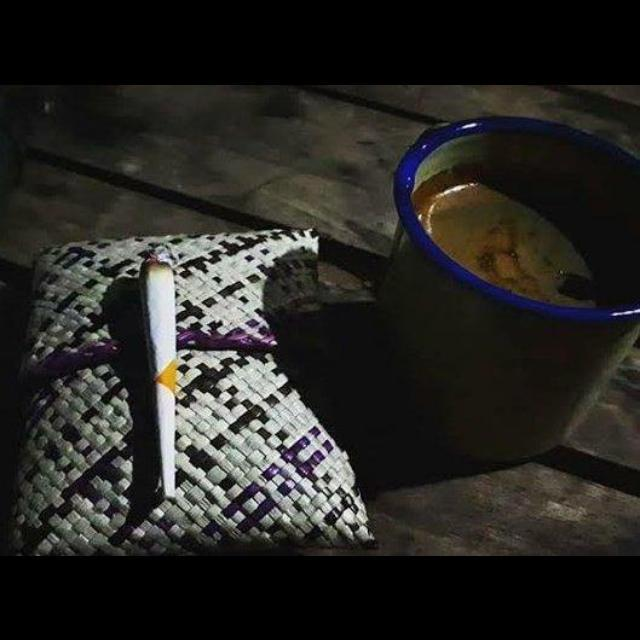rokok: (133, 244, 190, 504)
